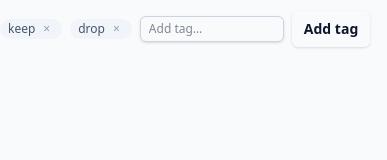
Test: TagsEditor › removes a tag via its remove control
This screenshot has width=387, height=160.
Click the button named "Remove tag drop": (116, 29) [109, 21, 124, 37]
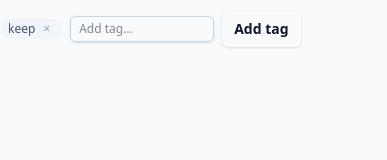
Check: the text "keep" is shown, box [8, 20, 35, 37]
Check: the text "drop" is gone
